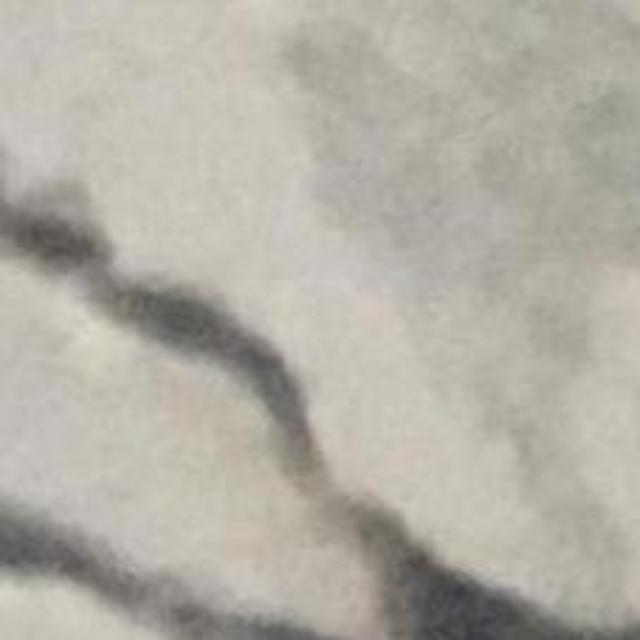crack: (0, 195, 639, 639)
